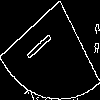I: (24, 25, 59, 63)
